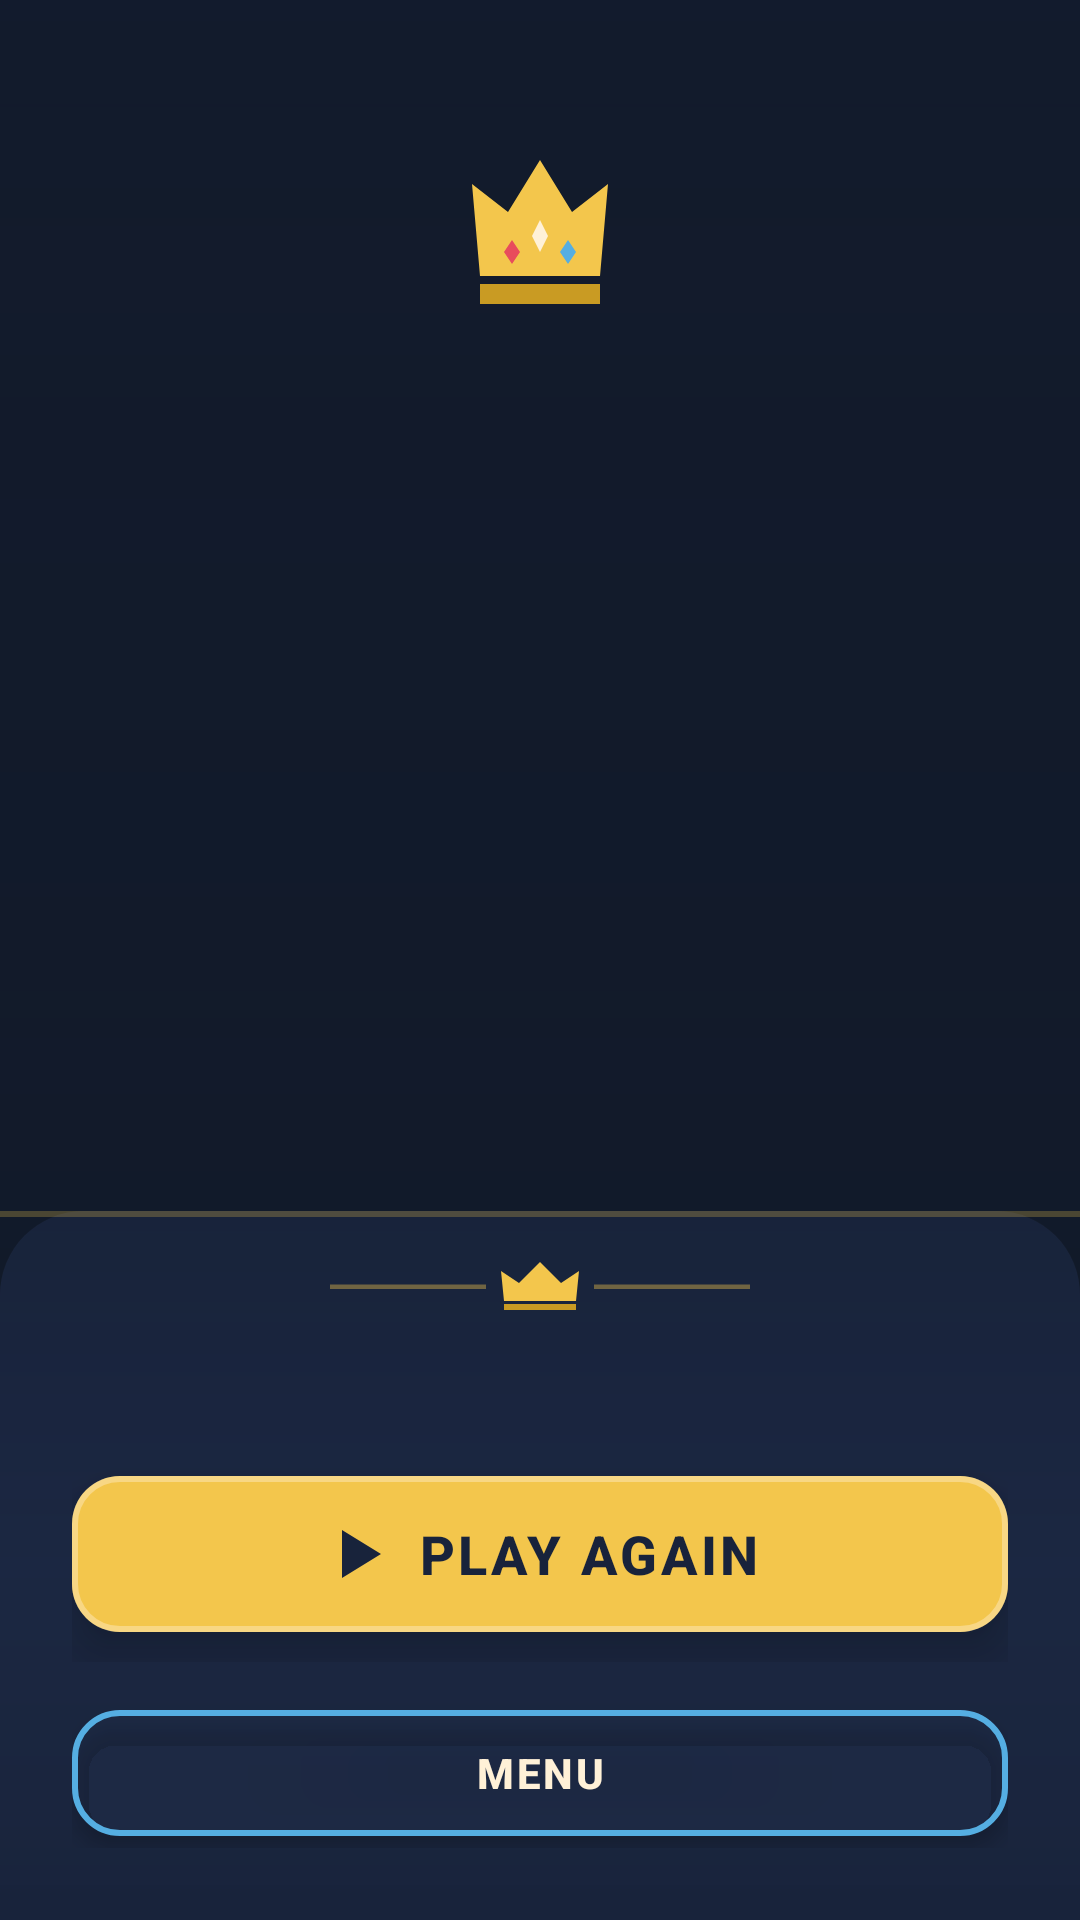

Icon click points for this 1080 × 1920 phone screenshot, format point (x, y):
Royal crown emblem: point (540, 232)
